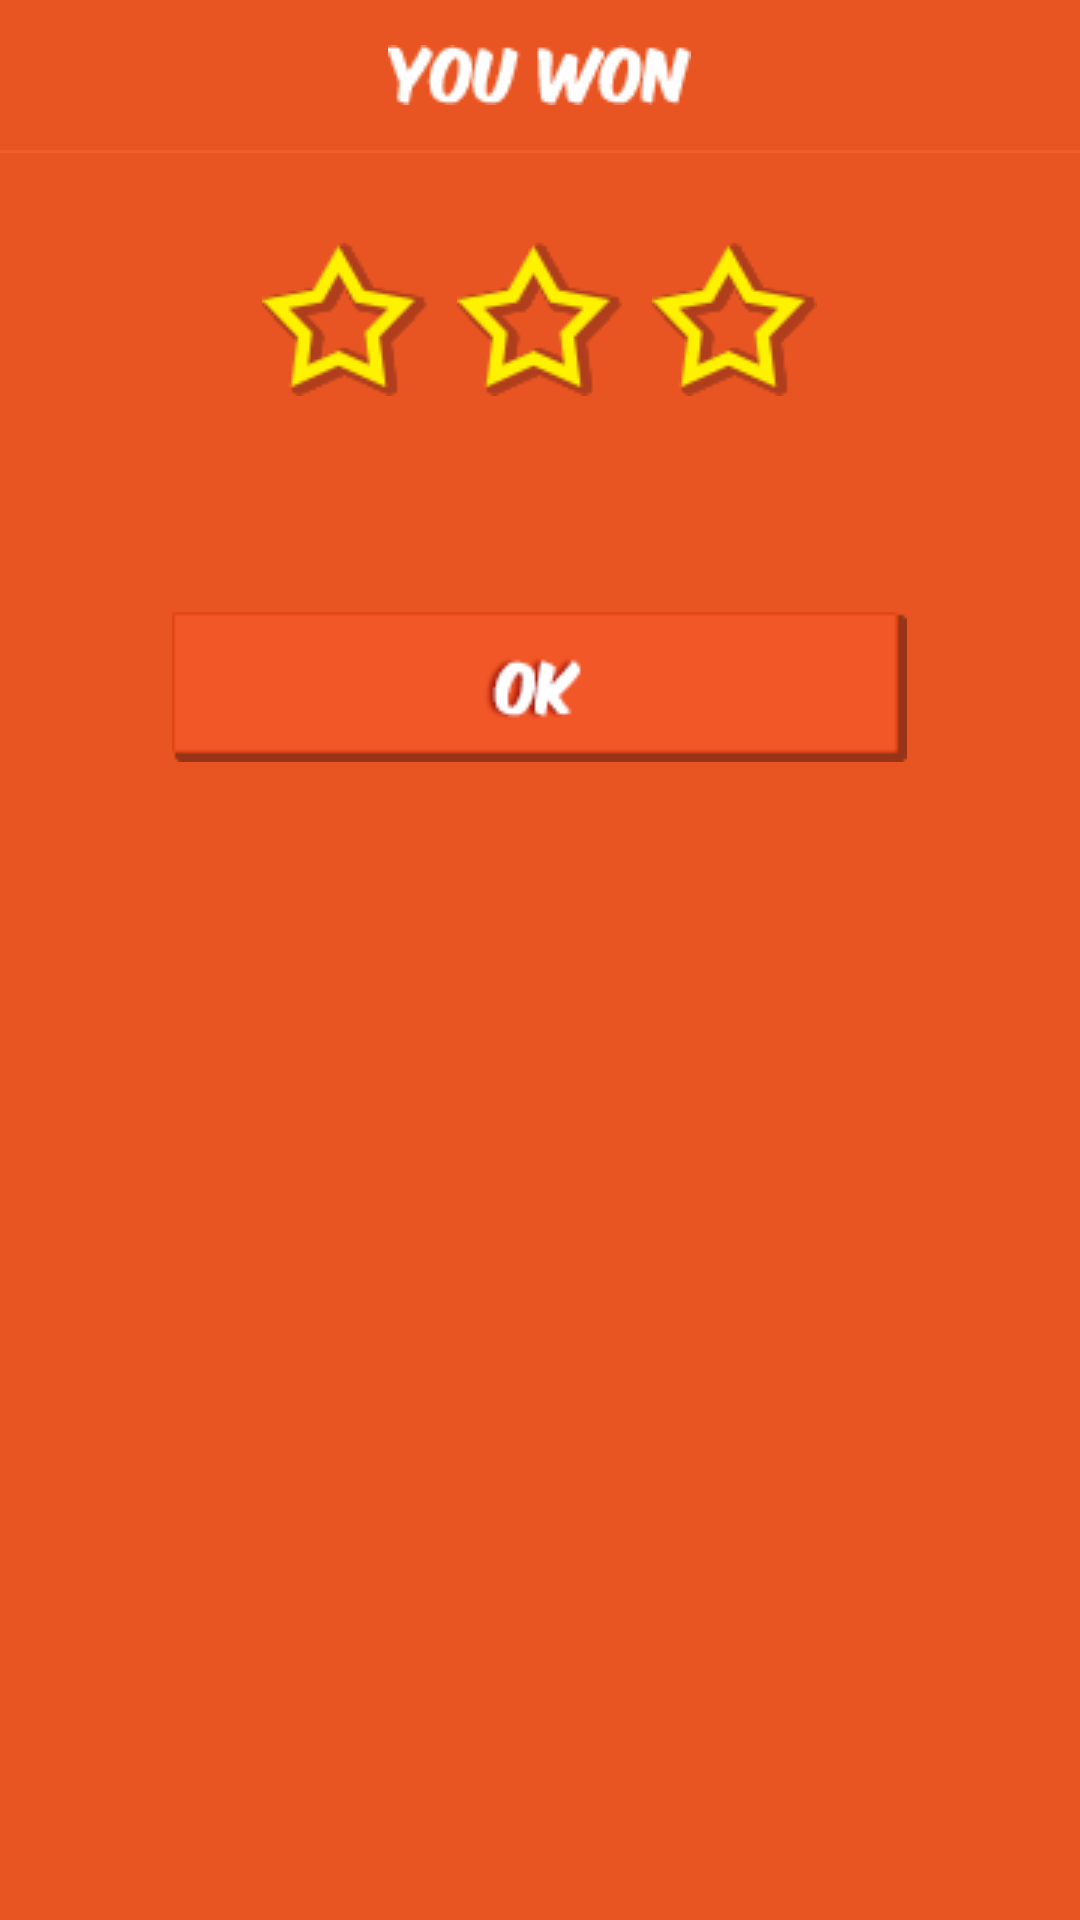

Icon click points for this 1080px x 1920px phone screenshot, format (x,y):
Rating star: (344,319), (539,319), (734,319)
